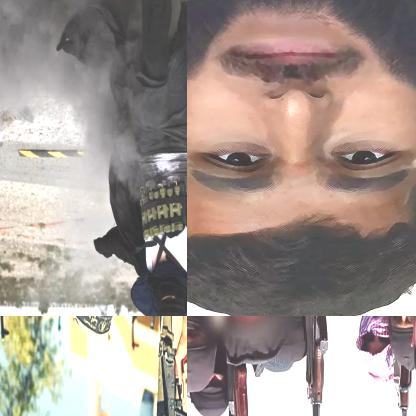rifle: (148, 338, 186, 415), (304, 316, 331, 415), (223, 360, 255, 415), (389, 353, 415, 415), (125, 316, 142, 360), (146, 316, 164, 344)
